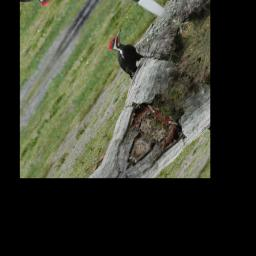Woodpecker: (97, 26, 155, 82)
